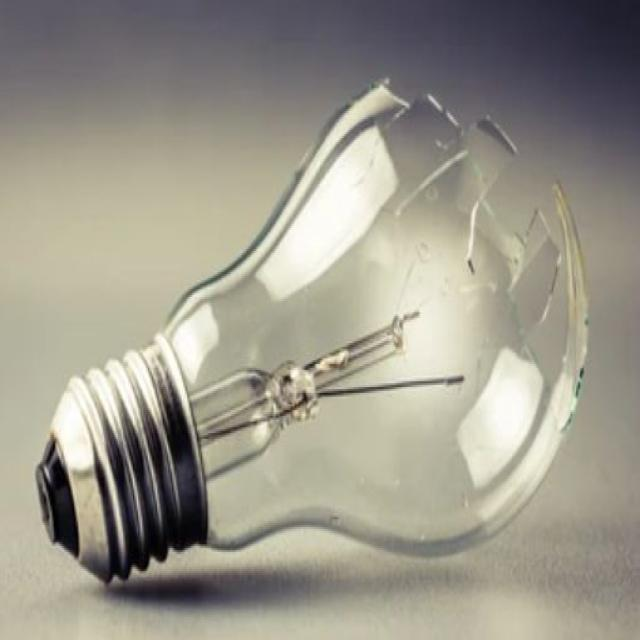electronic: (34, 75, 590, 586)
